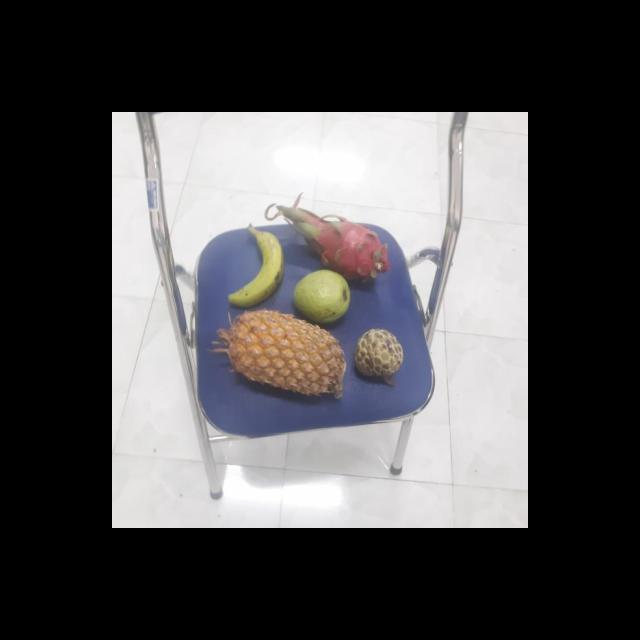Sakya fruit: (352, 330, 403, 380)
banana: (227, 228, 286, 308)
guava: (289, 270, 353, 325)
pineapple: (216, 309, 344, 401)
pitaya: (288, 218, 385, 282)
